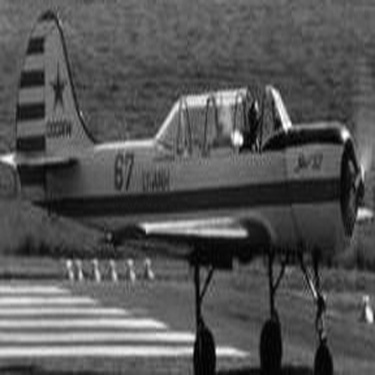airplane: (3, 4, 372, 373)
